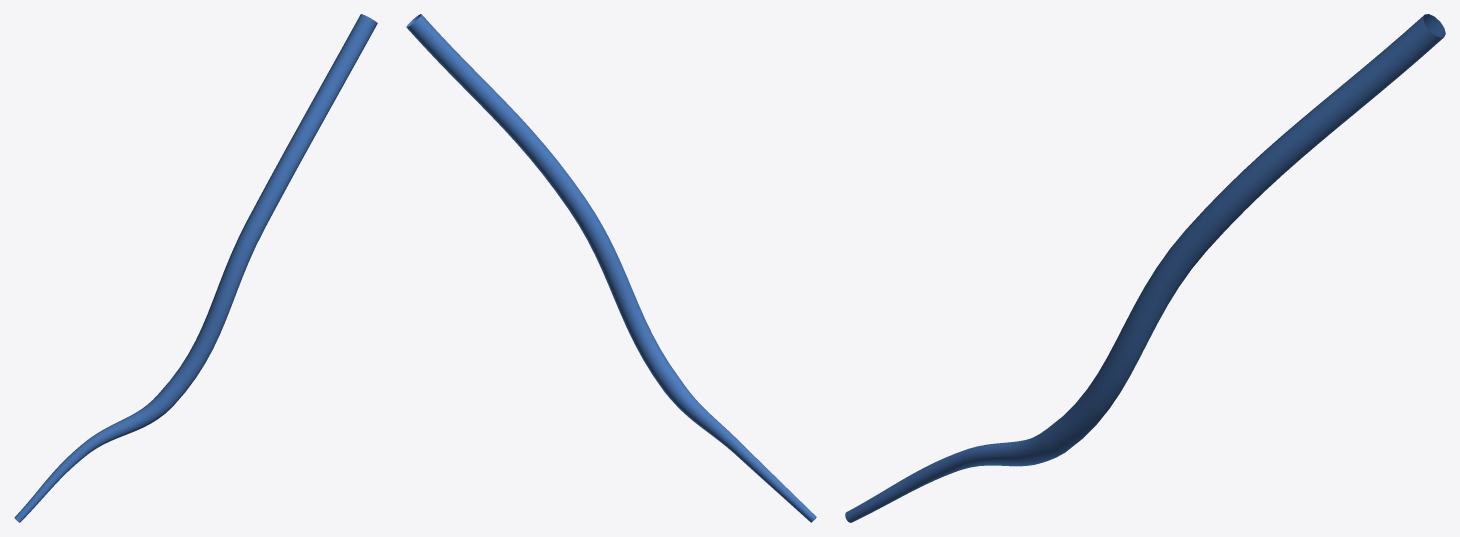
3 views of the same model, side by side, from view 1: azimuth 30°, elevation 25°; view 2: azimuth 150°, elevation 25°; view 3: azimuth 330°, elevation 25° (orthographic). The views are drawn at different scales.
Visible parts, largest first — view 1: 左侧上唇静脉; view 2: 左侧上唇静脉; view 3: 左侧上唇静脉.
Boxes of the visible parts, x1,y1,x2,y2 form: 左侧上唇静脉: (14, 14, 377, 522); 左侧上唇静脉: (406, 14, 816, 522); 左侧上唇静脉: (845, 14, 1445, 522).
Bounding box in the file's own units: 0.0326 × 0.0338 × 0.0051.
